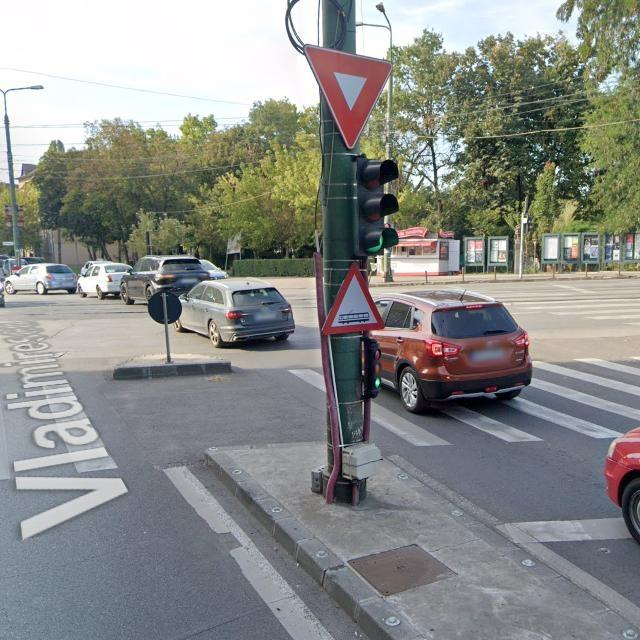prio_give_way: (303, 42, 395, 148)
